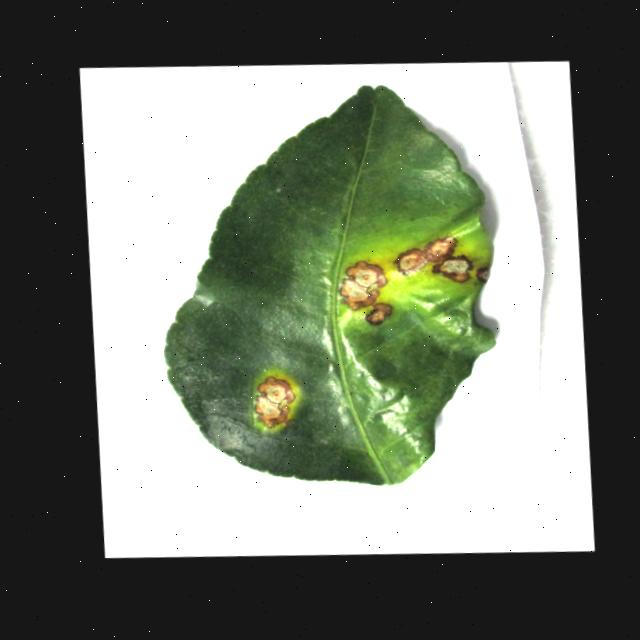antracnose: (164, 85, 494, 485), (164, 86, 494, 485), (254, 376, 294, 428), (340, 279, 378, 309), (345, 261, 386, 287), (431, 256, 472, 282), (257, 376, 294, 404), (422, 237, 456, 262), (394, 249, 426, 275), (364, 303, 391, 326), (255, 396, 280, 418), (267, 345, 277, 367), (475, 267, 488, 283)
